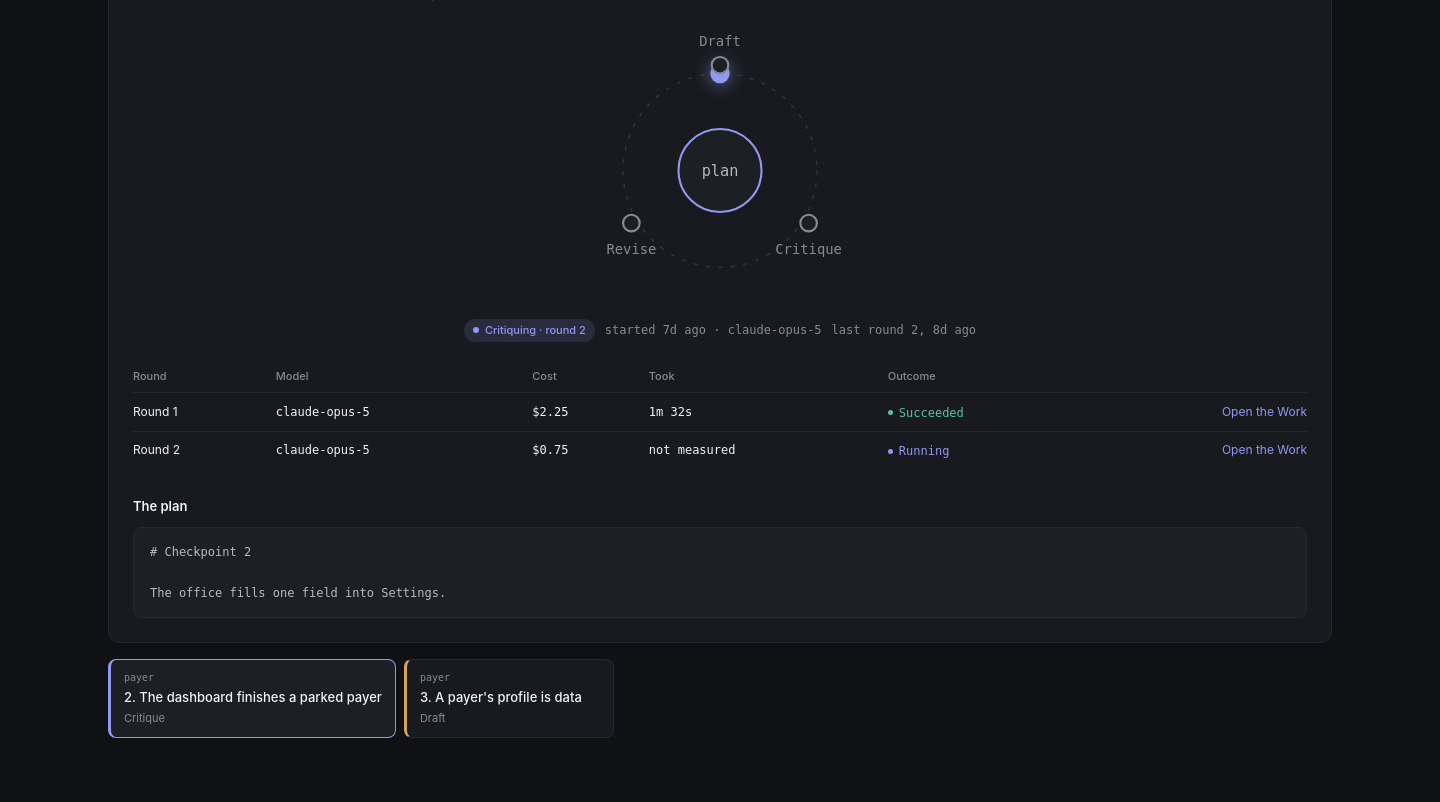
puts what is actually turning first and switches between them
This screenshot has width=1440, height=802.
(page scrolled)
Step 1. Click the text "3. A payer's profile is data" → (510, 698), box top-left (420, 688), bottom-right (600, 707)
(page scrolled)
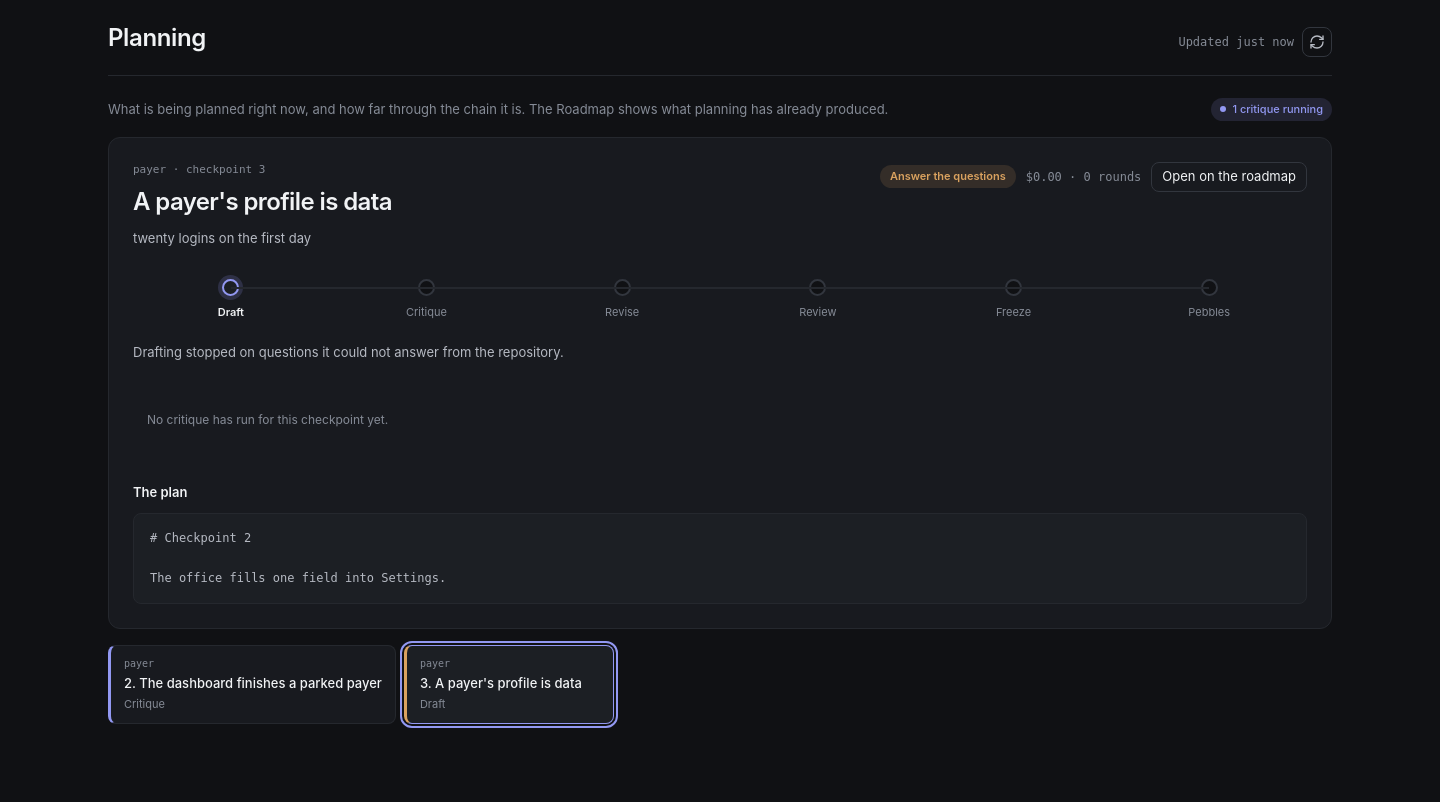
Check: the heading "A payer's profile is data" is shown, box top-left (133, 184), bottom-right (392, 220)
Check: the text "Answer the questions" is shown, box top-left (880, 165), bottom-right (1016, 188)
